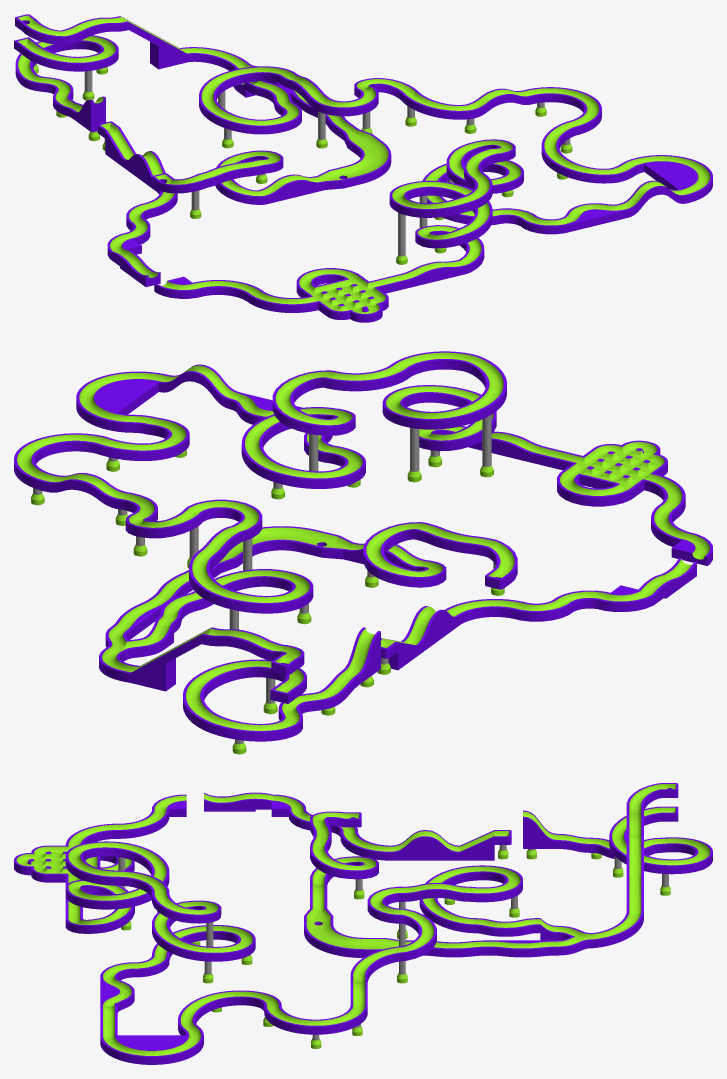
File: SC_Ball_AR.fbx
The picture shows the model from 3 angles, top to bottom: view 1: azimuth 30°, elevation 25°; view 2: azimuth 150°, elevation 25°; view 3: azimuth 270°, elevation 25°; orthographic projection. The views are drawn at different scales.
Parts seen in each view (by area): view 1: SM_Helix_Right_Large.001, SM_Helix_Left_Large, SM_Helix_Right_Large.002, SM_Bend_Solid_Large, SM_sCurve_Right_Large, SM_Helix_Half_Right_Large, SM_Bend_Large, SM_Helix_Left, SM_Helix_Right_Large, SM_Helix_Right, SM_sCurve_Left_Large, SM_Wave_Solid_C (+30 smaller); view 2: SM_Helix_Left_Large, SM_Helix_Right_Large.002, SM_Helix_Right_Large.001, SM_Helix_Right_Large, SM_Bend_Solid_Large, SM_Helix_Right, SM_sCurve_Left_Large, SM_Bend_Large, SM_Helix_Half_Right_Large, SM_sCurve_Right_Large, SM_sCurve_Left, SM_Helix_Half_Right.001 (+31 smaller); view 3: SM_Helix_Left_Large, SM_Helix_Right_Large.001, SM_Helix_Right_Large, SM_Helix_Right_Large.002, SM_Bend_Solid_Large, SM_Bend_Large, SM_sCurve_Left_Large, SM_Helix_Half_Right_Large, SM_sCurve_Right_Large, SM_Helix_Right, SM_Helix_Left, SM_Bump_Solid_C (+31 smaller).
Part boxes in pixels (box(x1,y1,x2,y2)): SM_Helix_Right_Large.001: box(199, 66, 301, 134); SM_Helix_Left_Large: box(389, 180, 492, 242); SM_Helix_Right_Large.002: box(15, 35, 118, 85); SM_Bend_Solid_Large: box(636, 155, 712, 203); SM_sCurve_Right_Large: box(193, 280, 318, 312); SM_Helix_Half_Right_Large: box(541, 121, 618, 183); SM_Bend_Large: box(525, 87, 601, 135); SM_Helix_Left: box(415, 225, 484, 273); SM_Helix_Right_Large: box(422, 160, 523, 225); SM_Helix_Right: box(446, 139, 515, 193); SM_sCurve_Left_Large: box(458, 148, 498, 211); SM_Wave_Solid_C: box(560, 203, 627, 232); SM_Helix_Left_Large: box(382, 355, 506, 429); SM_Helix_Right_Large.002: box(183, 659, 306, 741); SM_Helix_Right_Large.001: box(189, 552, 313, 613); SM_Helix_Right_Large: box(241, 407, 365, 488); SM_Bend_Solid_Large: box(76, 371, 168, 429); SM_Helix_Right: box(272, 370, 355, 435); SM_sCurve_Left_Large: box(324, 351, 475, 391); SM_Bend_Large: box(14, 433, 106, 491); SM_Helix_Half_Right_Large: box(96, 418, 189, 460); SM_sCurve_Right_Large: box(644, 473, 691, 546); SM_sCurve_Left: box(515, 590, 609, 621); SM_Helix_Half_Right.001: box(363, 522, 424, 580); SM_Helix_Left_Large: box(65, 841, 169, 909); SM_Helix_Right_Large.001: box(419, 865, 522, 932); SM_Helix_Right_Large: box(152, 923, 255, 961); SM_Helix_Right_Large.002: box(609, 806, 712, 874); SM_Bend_Solid_Large: box(100, 1035, 203, 1064); SM_Bend_Large: box(264, 1005, 367, 1034); SM_sCurve_Left_Large: box(65, 856, 169, 898); SM_Helix_Half_Right_Large: box(178, 990, 281, 1024); SM_sCurve_Right_Large: box(65, 809, 169, 848); SM_Helix_Right: box(152, 892, 221, 927); SM_Helix_Left: box(65, 880, 134, 933); SM_Bump_Solid_C: box(391, 830, 459, 860).
Bounding box in the file's own units: 144 × 18.5 × 162.
